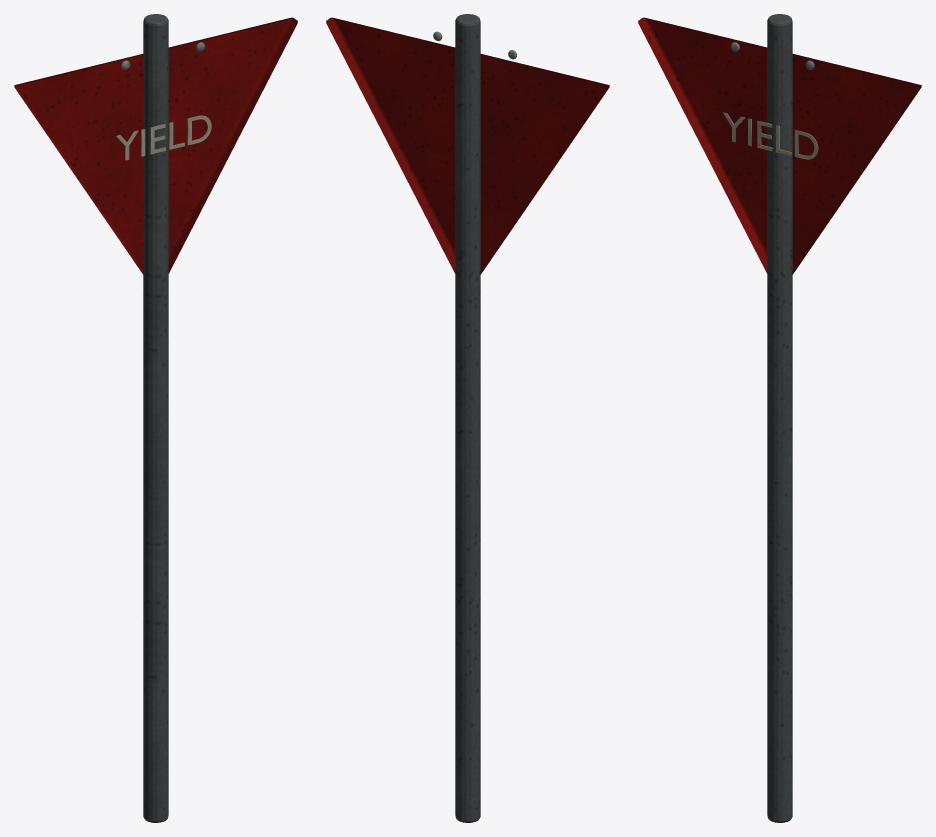
Rendered from PROP-773118451561_lod0.glb.
3 renders of one model, left to right at view 1: azimuth 30°, elevation 25°; view 2: azimuth 150°, elevation 25°; view 3: azimuth 330°, elevation 25°, orthographic.
Visible parts, largest first — view 1: shaped_sign_plate.010, sign_post.032, sign_letters_YIELD; view 2: shaped_sign_plate.010, sign_post.032; view 3: shaped_sign_plate.010, sign_post.032, sign_letters_YIELD.
Boxes of the visible parts, bbox=[...] form: shaped_sign_plate.010: bbox=[14, 17, 297, 274]; sign_post.032: bbox=[143, 14, 168, 822]; sign_letters_YIELD: bbox=[116, 115, 211, 160]; shaped_sign_plate.010: bbox=[326, 17, 609, 274]; sign_post.032: bbox=[455, 14, 480, 822]; shaped_sign_plate.010: bbox=[638, 17, 921, 274]; sign_post.032: bbox=[767, 14, 792, 822]; sign_letters_YIELD: bbox=[722, 112, 818, 159].
Size of the model in its own units: 0.8944 by 2.45 by 0.084.
Materials: 4 (4 with a texture image).
